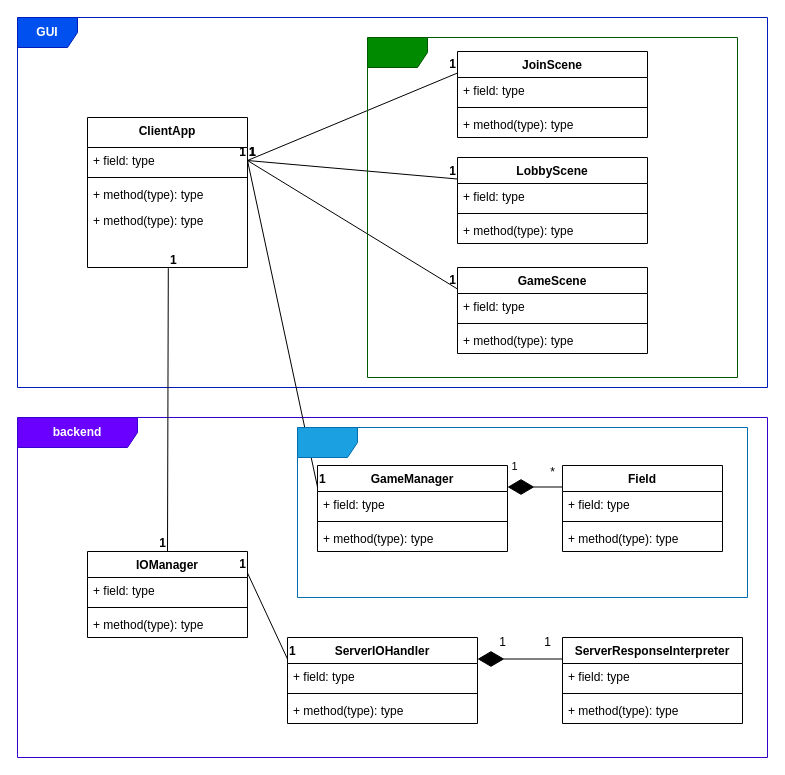
Some shapes in this 785 by 775 pixel diagram are drawn without their labels. Each missing label, with the centre of its shape:
"Game" belongs at (522,512).
"scenes" belongs at (552,207).
